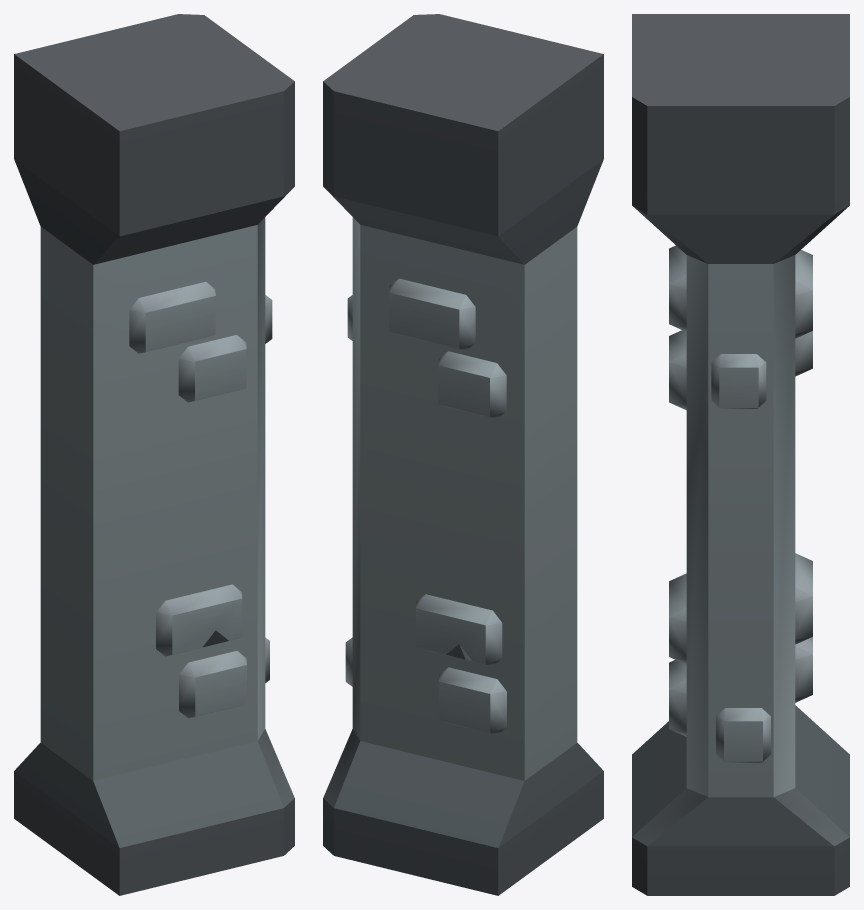
The model's file is wall_endcap.glb.
The picture shows the model from 3 angles, left to right: view 1: azimuth 30°, elevation 25°; view 2: azimuth 150°, elevation 25°; view 3: azimuth 270°, elevation 25°; orthographic projection. The views are drawn at different scales.
Parts seen in each view (by area): view 1: wall_endcap; view 2: wall_endcap; view 3: wall_endcap.
Part boxes in pixels (x1,y1,x2,y2): wall_endcap: (14,14,294,895); wall_endcap: (323,14,603,895); wall_endcap: (632,14,849,895).
Bounding box in the file's own units: 1.07 × 4 × 1.
1 material, 1 textured.
